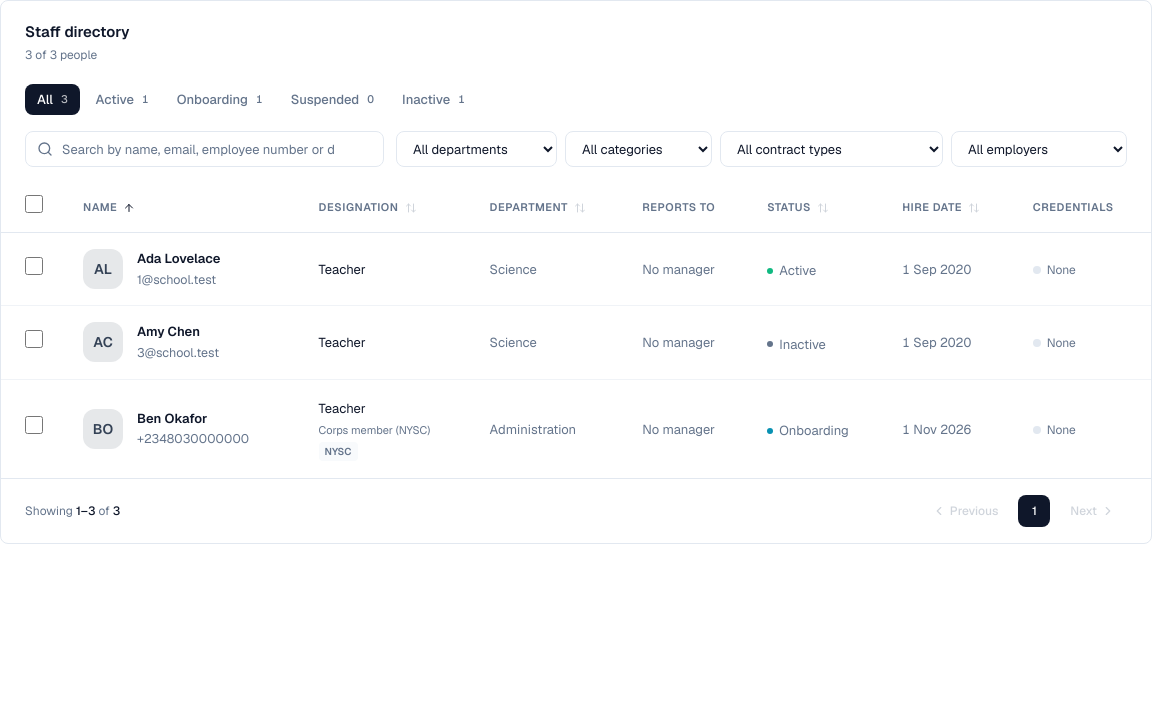
StaffDirectory › clears the selection when filters change
Click the checkbox named "select ada lovelace" at (34, 266), box [25,257,43,275]
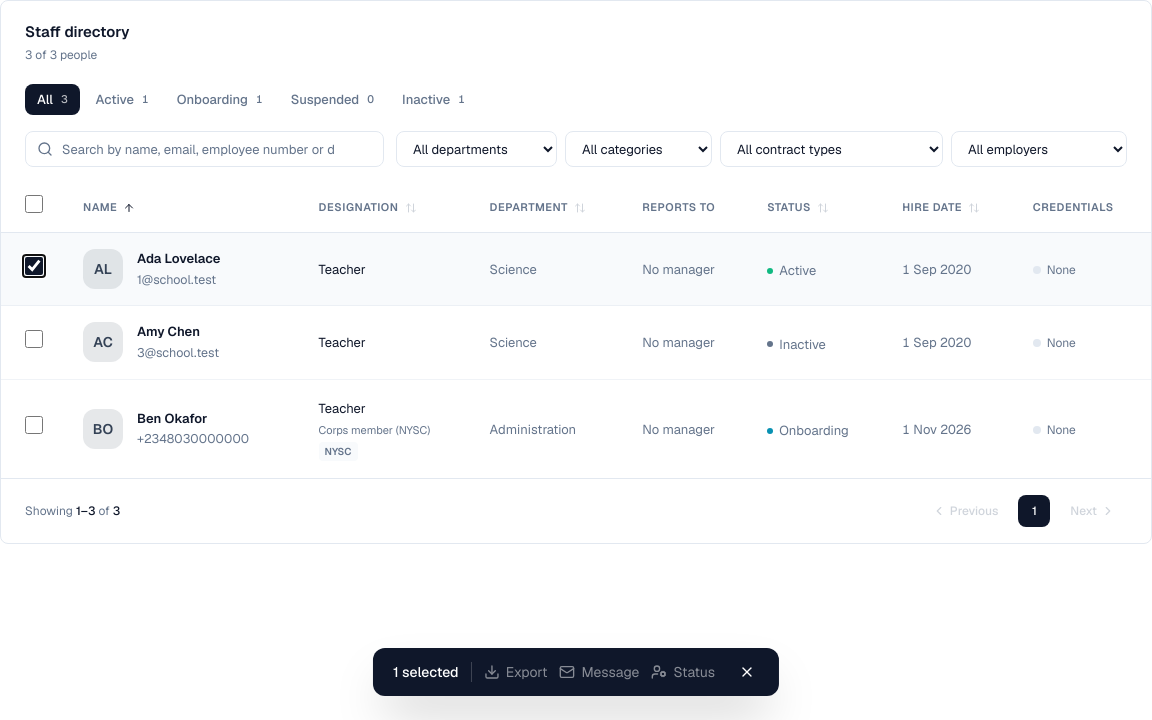
Now the text "1 selected" is shown, box [393,662,459,682]
Click the tab "Onboarding 1" at (220, 99), box [165,84,275,115]
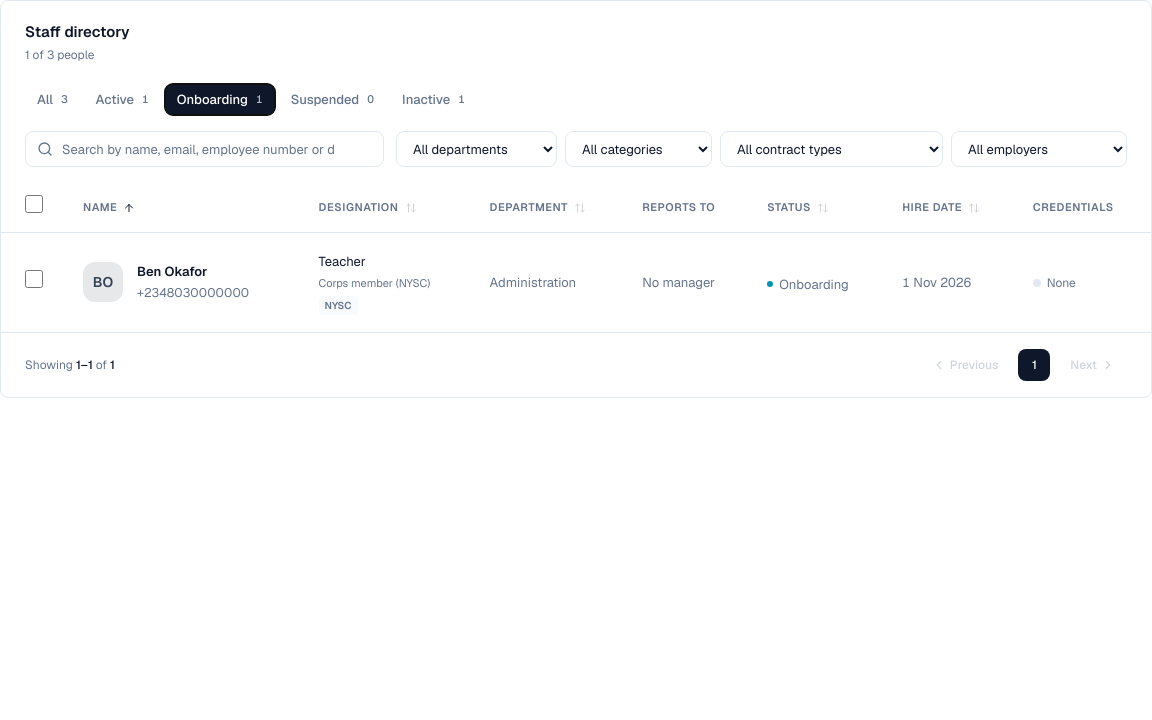
Now the text "selected" is gone
